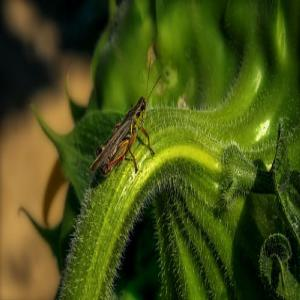locust: (92, 74, 167, 187)
